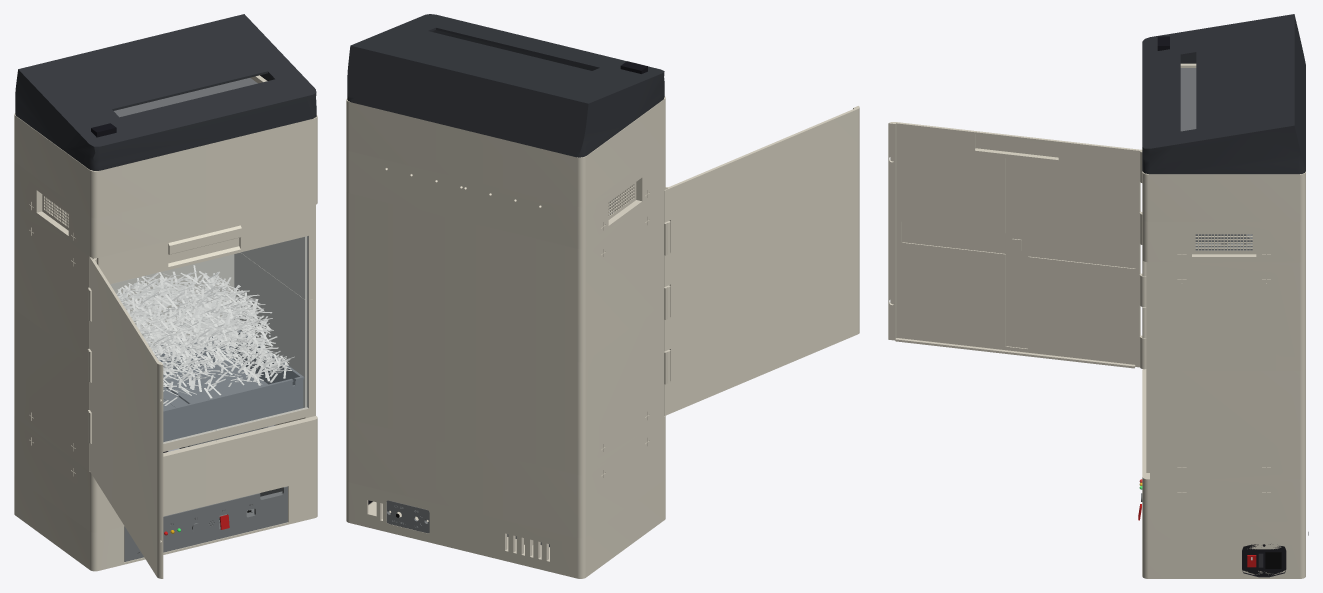
The picture shows the model from 3 angles, left to right: view 1: azimuth 30°, elevation 25°; view 2: azimuth 150°, elevation 25°; view 3: azimuth 270°, elevation 25°; orthographic projection. The views are drawn at different scales.
Visible parts, largest first — view 1: s2_bin, head, s2_outer, s2_door, c1_box, s4, s2_paper, s3, s2_tray, c0_box, c0_drawer; view 2: s2_outer, s2_door, head, c1_box, s4, s3, c0_box, c0_fix; view 3: s2_door, s2_outer, head, c1_box, s4, s3, c0_box, c0_fix, s2_bin.
Part boxes in pixels (<box>): s2_bin: <box>49,206,310,451</box>; head: <box>15,14,316,170</box>; s2_outer: <box>14,202,315,470</box>; s2_door: <box>90,257,163,578</box>; c1_box: <box>14,416,317,532</box>; s4: <box>14,75,317,218</box>; s2_paper: <box>116,265,294,405</box>; s3: <box>14,162,317,258</box>; s2_tray: <box>149,330,304,441</box>; c0_box: <box>14,476,317,571</box>; c0_drawer: <box>124,486,287,561</box>; s2_outer: <box>346,190,670,475</box>; s2_door: <box>664,106,859,415</box>; head: <box>347,14,664,157</box>; c1_box: <box>346,416,665,538</box>; s4: <box>346,96,665,207</box>; s3: <box>346,148,665,249</box>; c0_box: <box>346,479,665,578</box>; c0_fix: <box>368,500,429,533</box>; s2_door: <box>888,122,1146,369</box>; s2_outer: <box>1142,260,1305,479</box>; head: <box>1142,14,1305,174</box>; c1_box: <box>1142,369,1305,539</box>; s4: <box>1142,63,1305,221</box>; s3: <box>1142,220,1305,262</box>; c0_box: <box>1142,538,1305,578</box>; c0_fix: <box>1242,532,1308,577</box>; s2_bin: <box>1146,262,1149,472</box>.
Bounding box in the file's own units: 0.4404 × 0.651 × 0.547.
